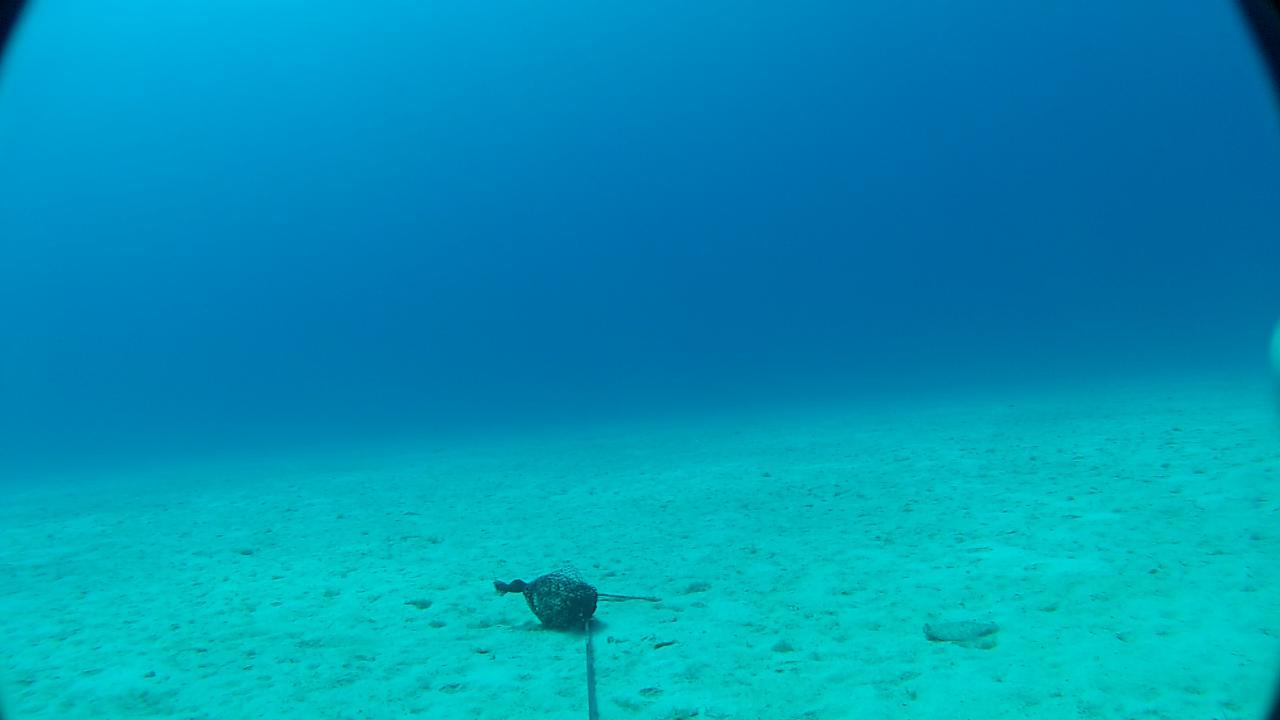bothus: (917, 609, 1008, 656)
